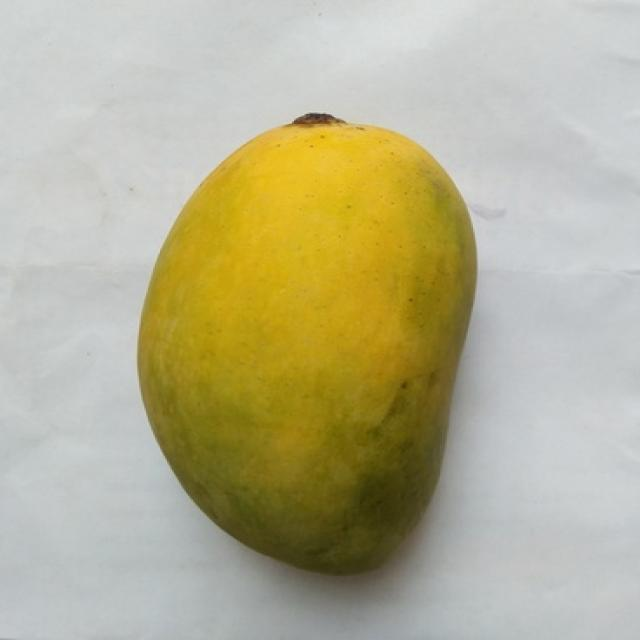Mango: (137, 114, 473, 573)
